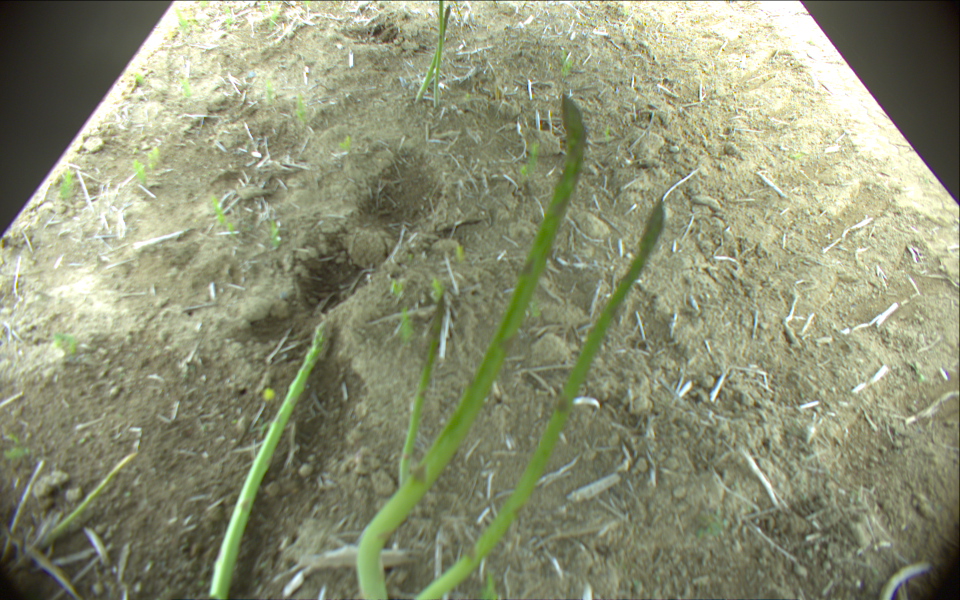aspa: (356, 93, 587, 599), (412, 193, 665, 600), (209, 316, 329, 600), (29, 455, 137, 559), (397, 293, 444, 488), (417, 3, 451, 102), (436, 1, 443, 106)
